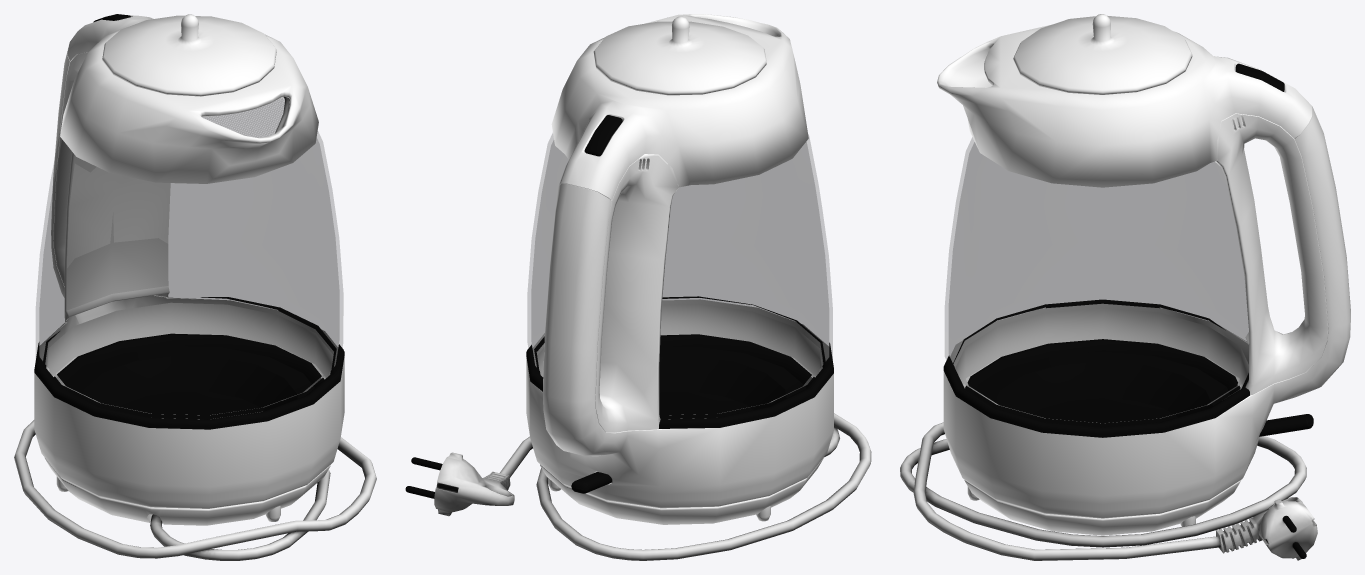
File: kettle_glass.glb
3 views of the same model, side by side, from view 1: azimuth 30°, elevation 25°; view 2: azimuth 150°, elevation 25°; view 3: azimuth 270°, elevation 25° (orthographic). The views are drawn at different scales.
Parts seen in each view (by area): view 1: Object_4, Object_3, Object_5, Object_6; view 2: Object_4, Object_3, Object_5, Object_6; view 3: Object_4, Object_3, Object_5, Object_6.
Part boxes in pixels (x1,y1,x2,y2): Object_4: (34, 15, 344, 508); Object_3: (36, 98, 342, 418); Object_5: (14, 14, 376, 560); Object_6: (45, 14, 330, 525); Object_4: (526, 14, 833, 508); Object_3: (528, 134, 832, 419); Object_5: (405, 115, 871, 560); Object_6: (540, 16, 823, 524); Object_4: (937, 24, 1350, 518); Object_3: (945, 138, 1248, 426); Object_5: (900, 63, 1317, 560); Object_6: (964, 14, 1240, 535).
Size of what is drawn, in the model's own units: 0.1677 by 0.2286 by 0.1967.
Materials: 4 (1 with a texture image).
